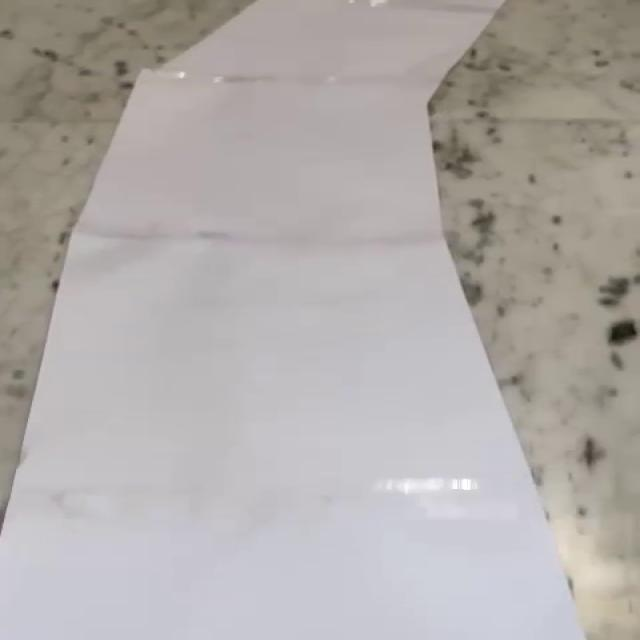road: (3, 0, 583, 640)
